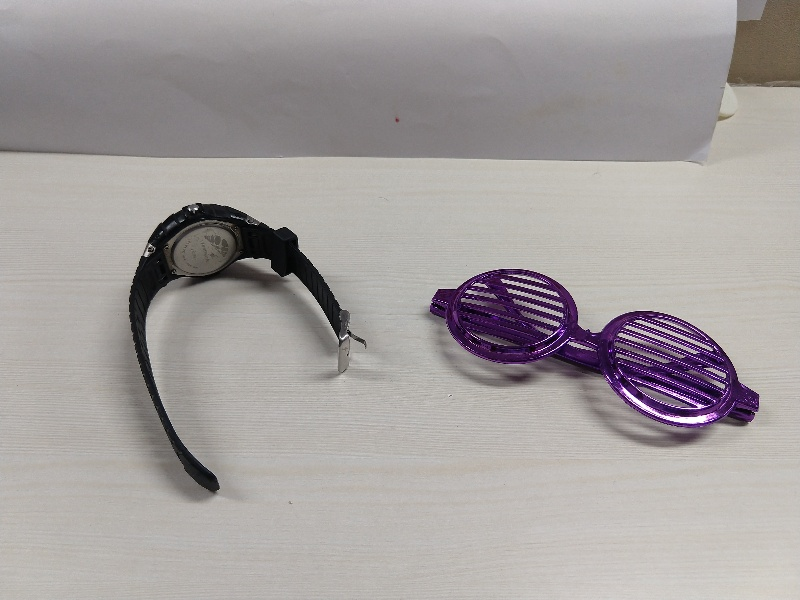shades: (429, 250, 764, 439)
watch: (111, 200, 392, 501)
